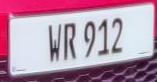1: (98, 14, 111, 61)
2: (109, 11, 126, 60)
9: (81, 14, 98, 65)
R: (62, 18, 77, 64)
W: (43, 21, 63, 64)
